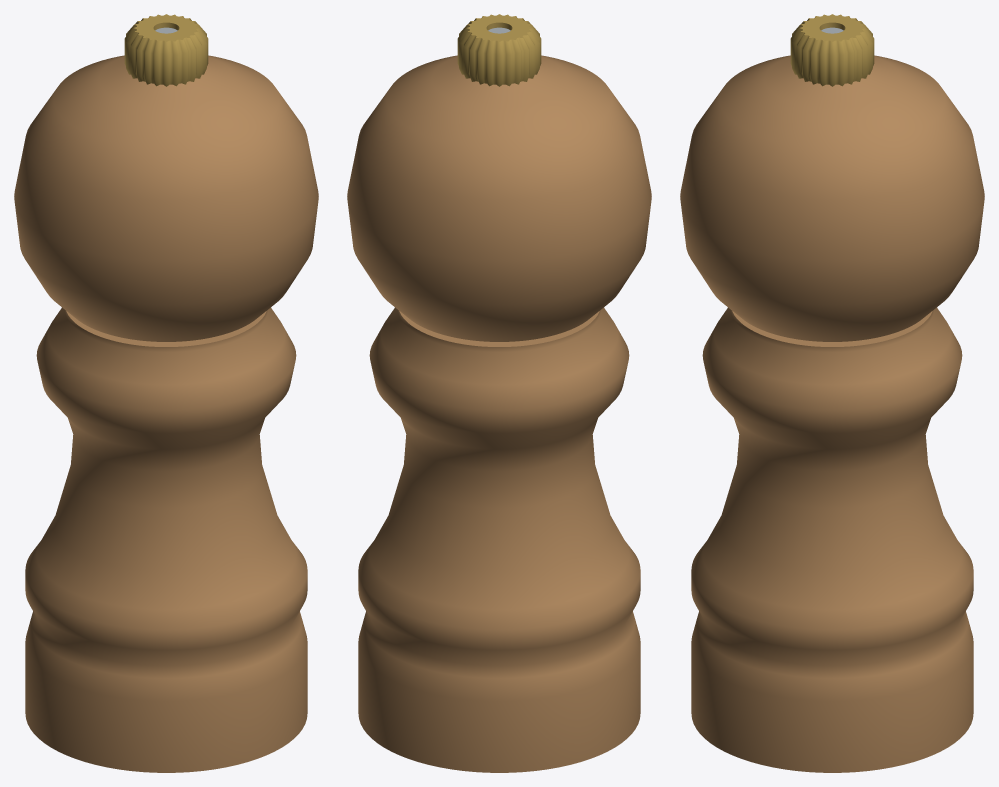
3 views of the same model, side by side, from view 1: azimuth 30°, elevation 25°; view 2: azimuth 150°, elevation 25°; view 3: azimuth 270°, elevation 25° (orthographic).
Parts seen in each view (by area): view 1: Hollow turned mill body, Rotating upper grinding knob, Knurled top adjustment nut; view 2: Hollow turned mill body, Rotating upper grinding knob, Knurled top adjustment nut; view 3: Hollow turned mill body, Rotating upper grinding knob, Knurled top adjustment nut.
Boxes of the visible parts, x1,y1,x2,y2 form: Hollow turned mill body: (25, 307, 307, 772); Rotating upper grinding knob: (14, 55, 318, 341); Knurled top adjustment nut: (124, 14, 208, 86); Hollow turned mill body: (358, 307, 640, 772); Rotating upper grinding knob: (347, 55, 651, 341); Knurled top adjustment nut: (457, 14, 541, 86); Hollow turned mill body: (691, 307, 973, 772); Rotating upper grinding knob: (680, 55, 984, 341); Knurled top adjustment nut: (790, 14, 874, 86).
Size of the model in its own units: 0.054 by 0.134 by 0.054.
